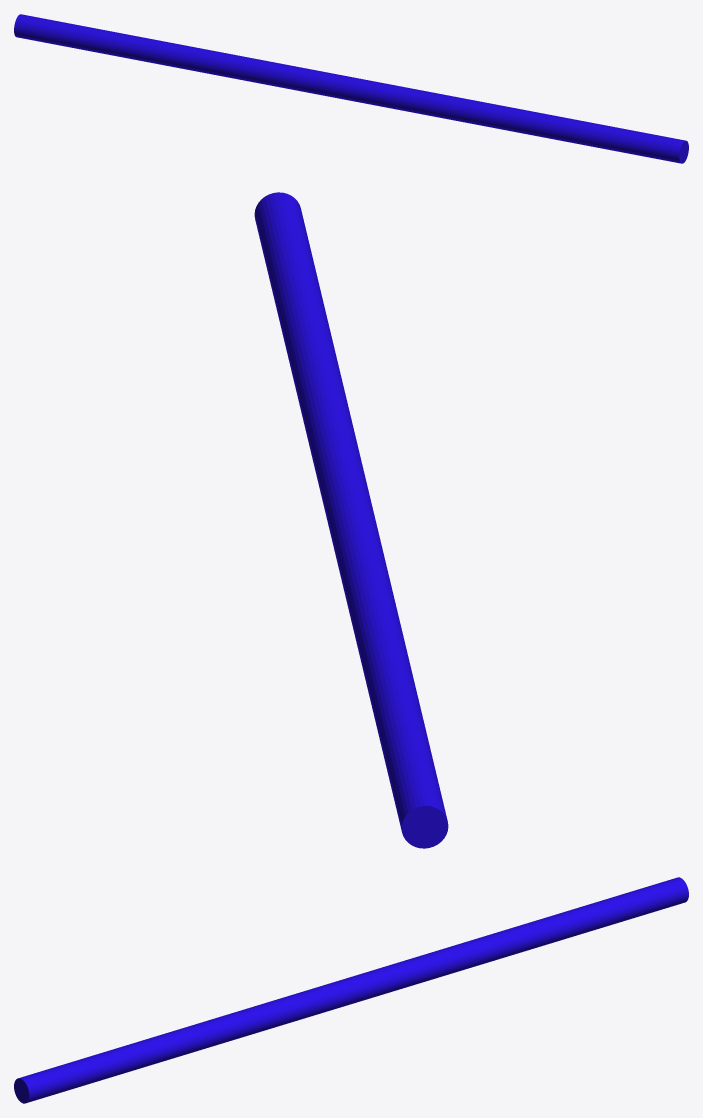
3 views of the same model, one above another, from view 1: azimuth 30°, elevation 25°; view 2: azimuth 150°, elevation 25°; view 3: azimuth 270°, elevation 25° (orthographic). The views are drawn at different scales.
Parts seen in each view (by area): view 1: Циліндр.001; view 2: Циліндр.001; view 3: Циліндр.001.
Part boxes in pixels (x1=…): Циліндр.001: x1=14, y1=14, x2=688, y2=163; Циліндр.001: x1=254, y1=192, x2=448, y2=848; Циліндр.001: x1=14, y1=877, x2=688, y2=1103.
Bounding box in the file's own units: 1.82 × 0.0964 × 2.48.
